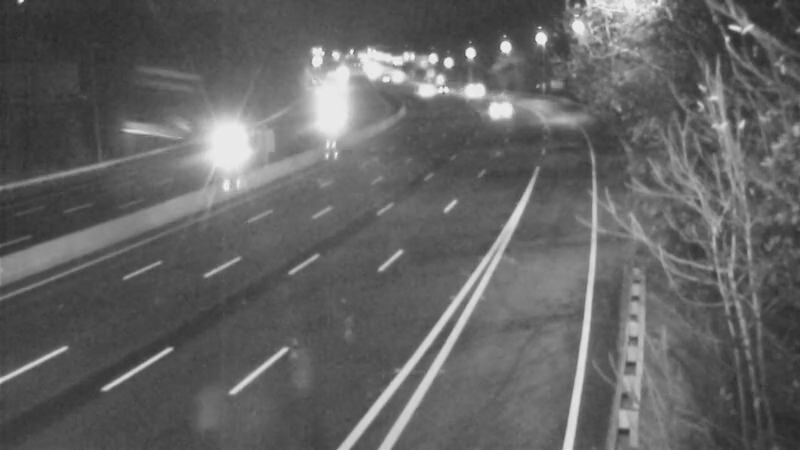vehicle: (392, 65, 442, 115), (416, 62, 466, 112), (439, 65, 489, 115), (471, 90, 521, 140), (198, 124, 248, 174)
